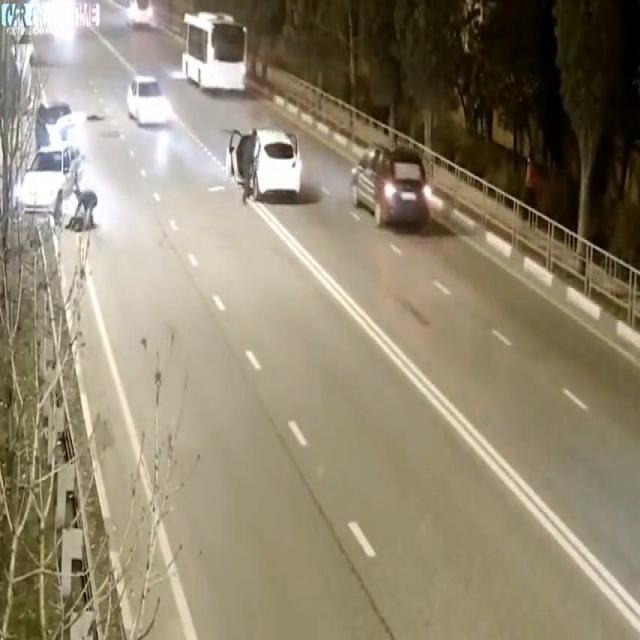Accident: (26, 111, 91, 276)
